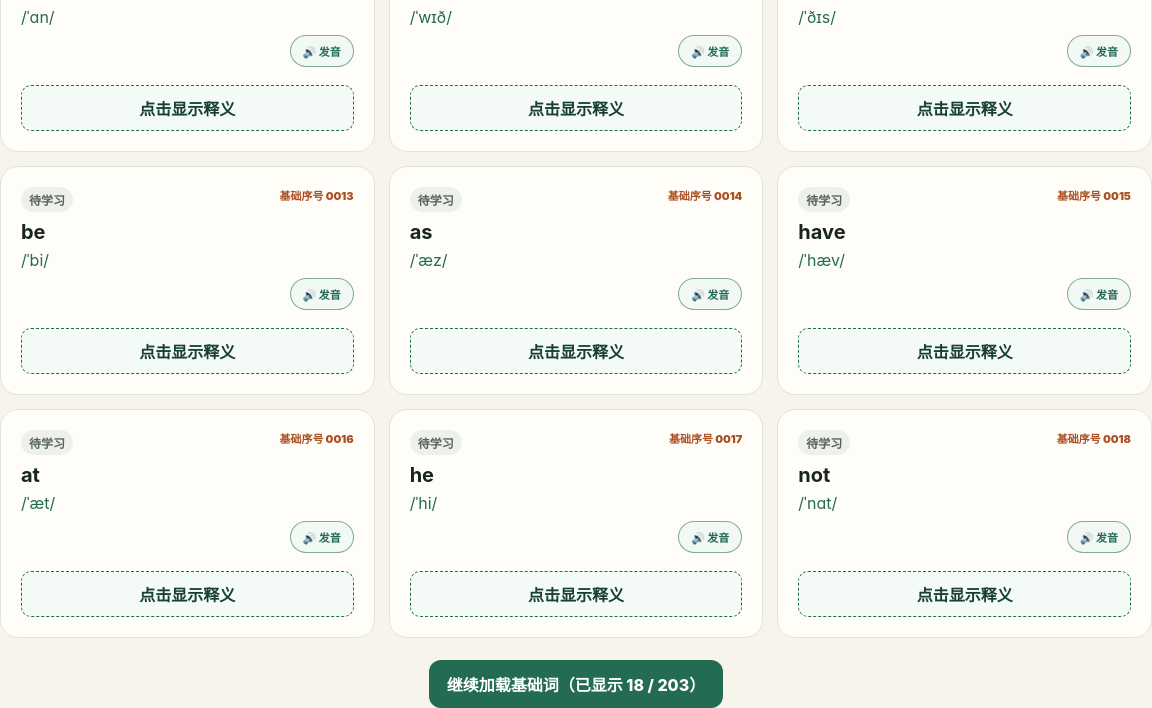
Test: FoundationVocabularyPage › shows common irregular forms inside the revealed meaning card
(page scrolled)
Click the button with aria-label "显示 be 的释义": (187, 351) [21,328,354,374]
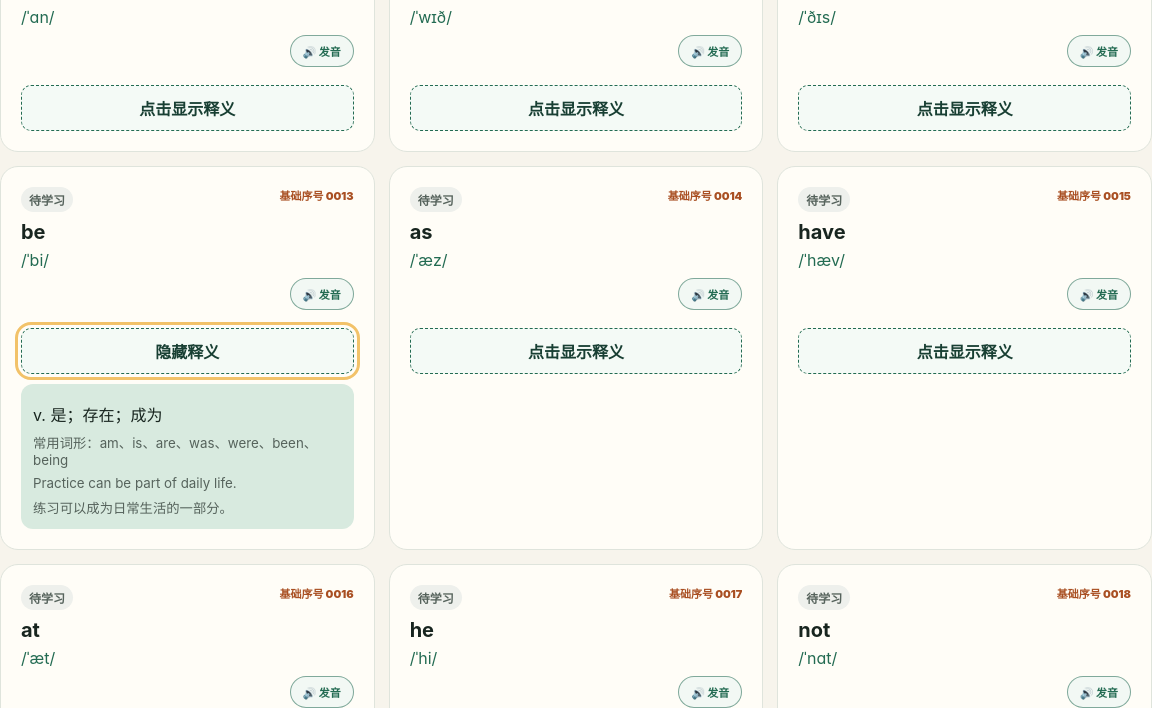
Expected: the text "常用词形：am、is、are、was、were、been、being" is shown, [33,433,342,468]
